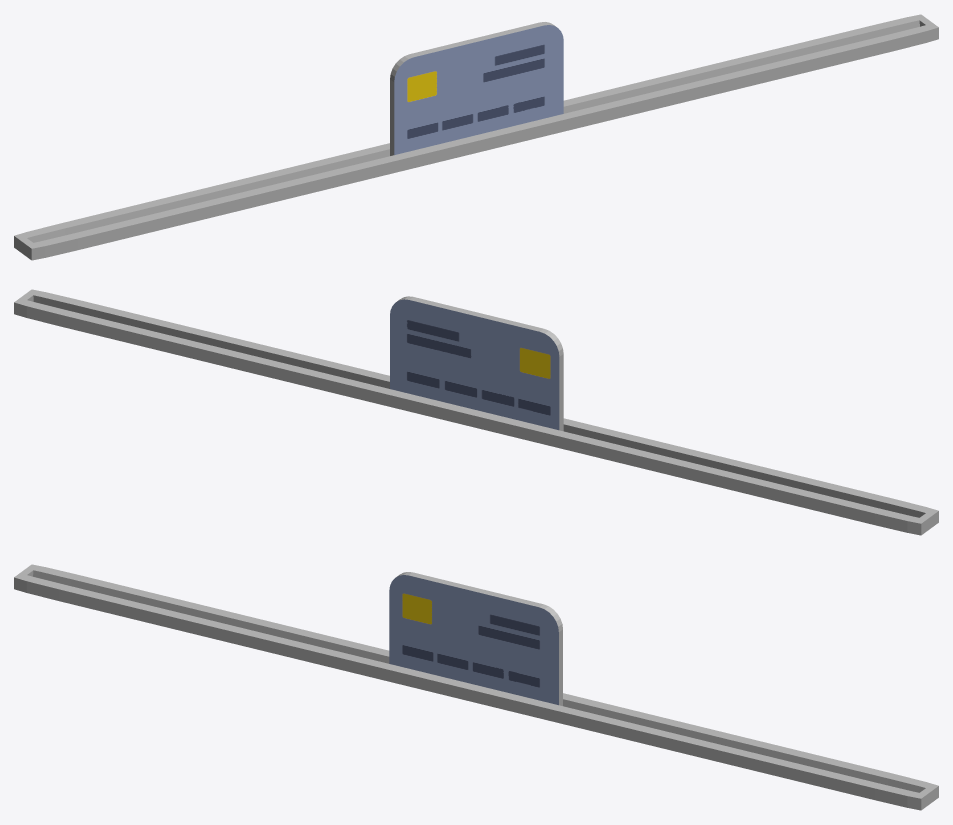
Rendered from card_obstacle.fbx.
The picture shows the model from 3 angles, top to bottom: view 1: azimuth 30°, elevation 25°; view 2: azimuth 150°, elevation 25°; view 3: azimuth 330°, elevation 25°; orthographic projection.
Visible parts, largest first — view 1: obstacle3, obstacle3.001; view 2: obstacle3, obstacle3.001; view 3: obstacle3, obstacle3.001.
Boxes of the visible parts, x1,y1,x2,y2 form: obstacle3: [14, 14, 938, 260]; obstacle3.001: [390, 22, 563, 155]; obstacle3: [14, 289, 938, 535]; obstacle3.001: [390, 296, 563, 431]; obstacle3: [14, 564, 938, 810]; obstacle3.001: [389, 572, 562, 705].
Bounding box in the file's own units: 1871 × 204 × 70.52.
Materials: 2 (1 with a texture image).
